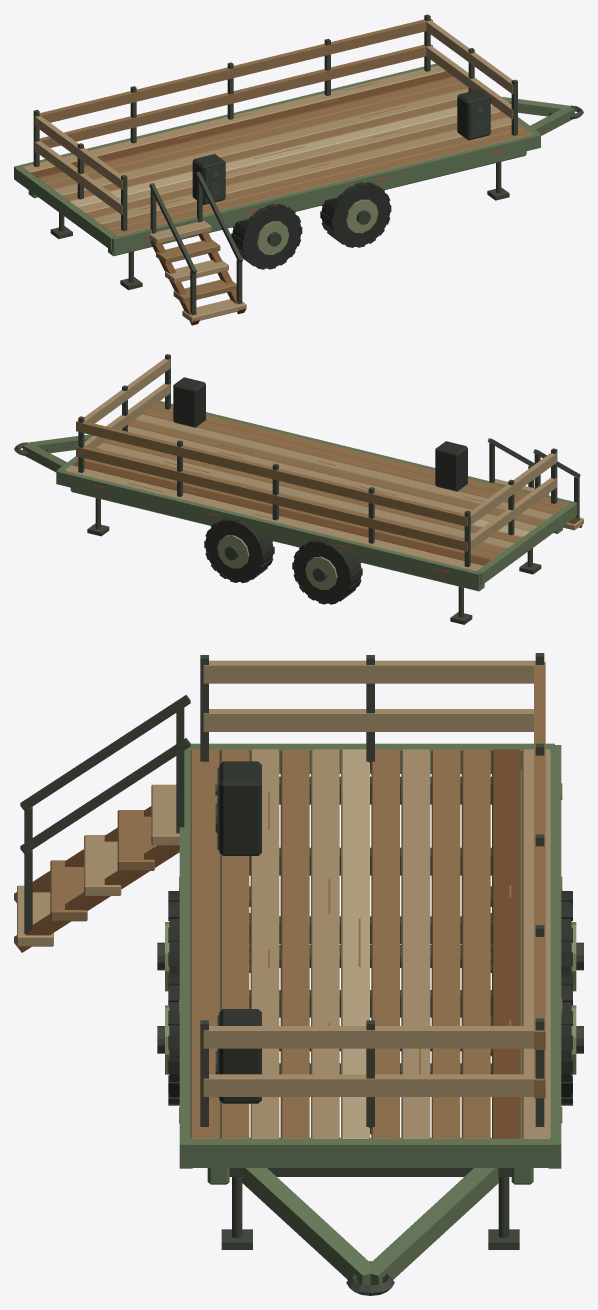
File: lwf_trailer_stage_v2.glb
3 views of the same model, one above another, from view 1: azimuth 30°, elevation 25°; view 2: azimuth 150°, elevation 25°; view 3: azimuth 270°, elevation 25° (orthographic). The views are drawn at different scales.
Visible parts, largest first — view 1: LWF_TrailerStage_Base, LWF_TrailerStage_Rails, LWF_TrailerStage_Access, LWF_TrailerStage_Fittings; view 2: LWF_TrailerStage_Base, LWF_TrailerStage_Rails, LWF_TrailerStage_Fittings, LWF_TrailerStage_Access; view 3: LWF_TrailerStage_Base, LWF_TrailerStage_Rails, LWF_TrailerStage_Access, LWF_TrailerStage_Fittings.
Boxes of the visible parts, x1=… form: LWF_TrailerStage_Base: x1=14, y1=63, x2=583, y2=290; LWF_TrailerStage_Rails: x1=33, y1=14, x2=517, y2=231; LWF_TrailerStage_Access: x1=149, y1=171, x2=246, y2=325; LWF_TrailerStage_Fittings: x1=192, y1=89, x2=490, y2=204; LWF_TrailerStage_Base: x1=14, y1=401, x2=577, y2=624; LWF_TrailerStage_Rails: x1=76, y1=354, x2=557, y2=567; LWF_TrailerStage_Fittings: x1=173, y1=377, x2=467, y2=491; LWF_TrailerStage_Access: x1=487, y1=438, x2=583, y2=530; LWF_TrailerStage_Base: x1=157, y1=743, x2=583, y2=1295; LWF_TrailerStage_Rails: x1=200, y1=653, x2=545, y2=1134; LWF_TrailerStage_Access: x1=14, y1=695, x2=190, y2=952; LWF_TrailerStage_Fittings: x1=215, y1=761, x2=261, y2=1103.
Bounding box in the file's own units: 9.91 × 2.2 × 4.91.
1 material, 1 textured.
